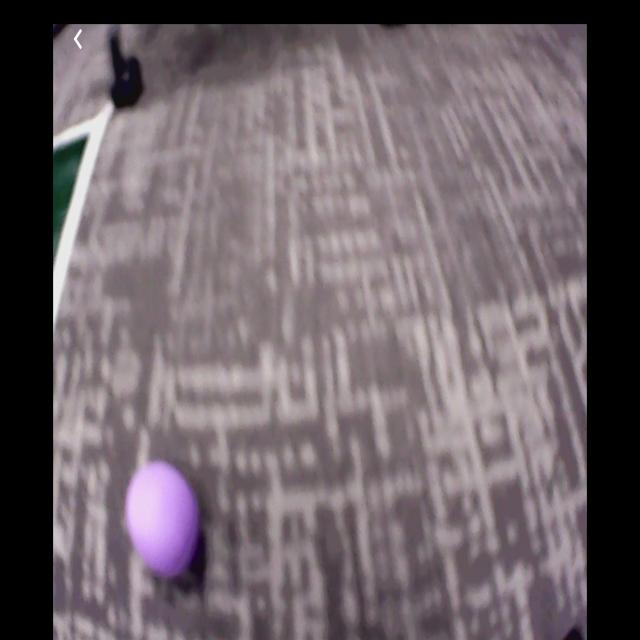ball: (126, 459, 201, 578)
